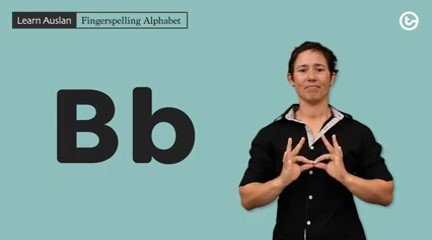B: (279, 132, 346, 183)
